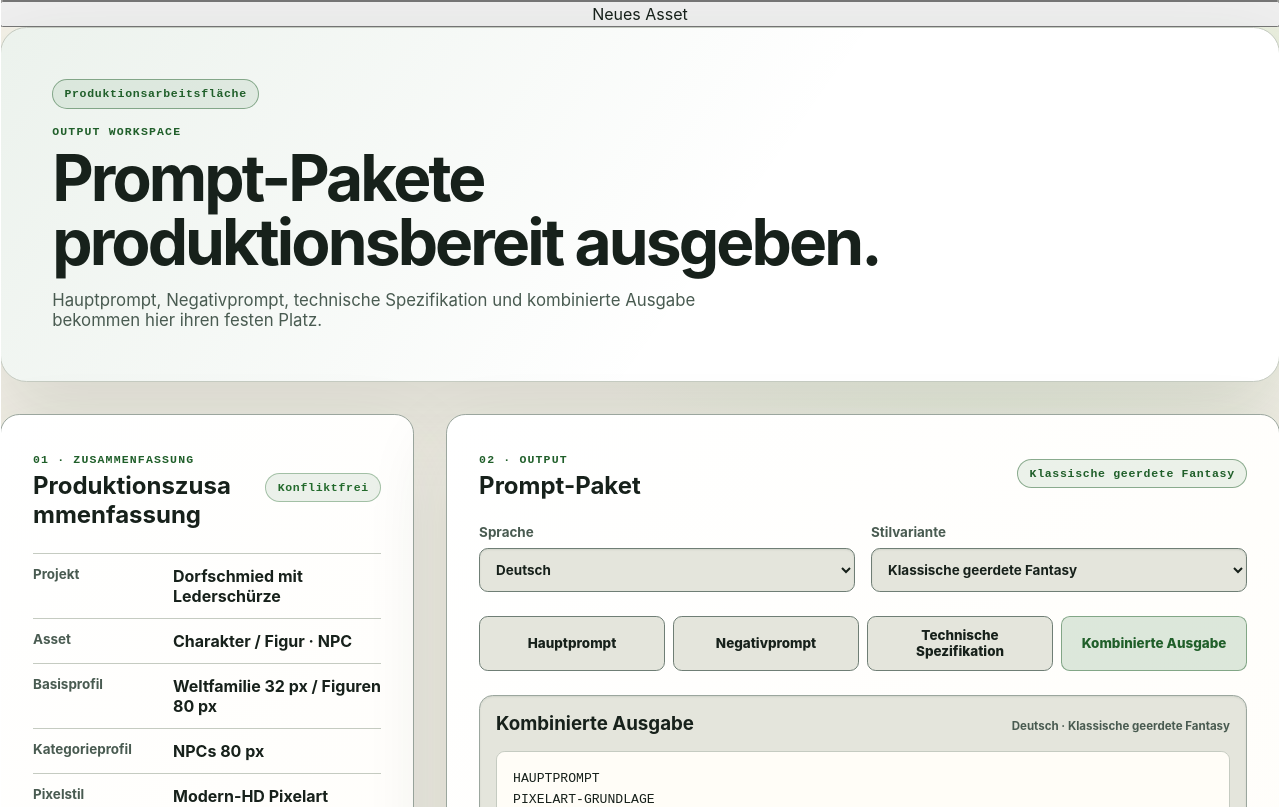
Test: ReviewOutputWorkspace › restores the persisted Draft and exposes all four prompt outputs and packages
The width and height of the screenshot is (1280, 807).
Expected: the heading "Prompt-Pakete produktionsbereit ausgeben." is shown, [52,146,958,274]
Expected: the heading "Produktionszusammenfassung" is shown, [33,471,250,529]
Click the tab "Hauptprompt" at (572, 643), box [479,616,665,671]
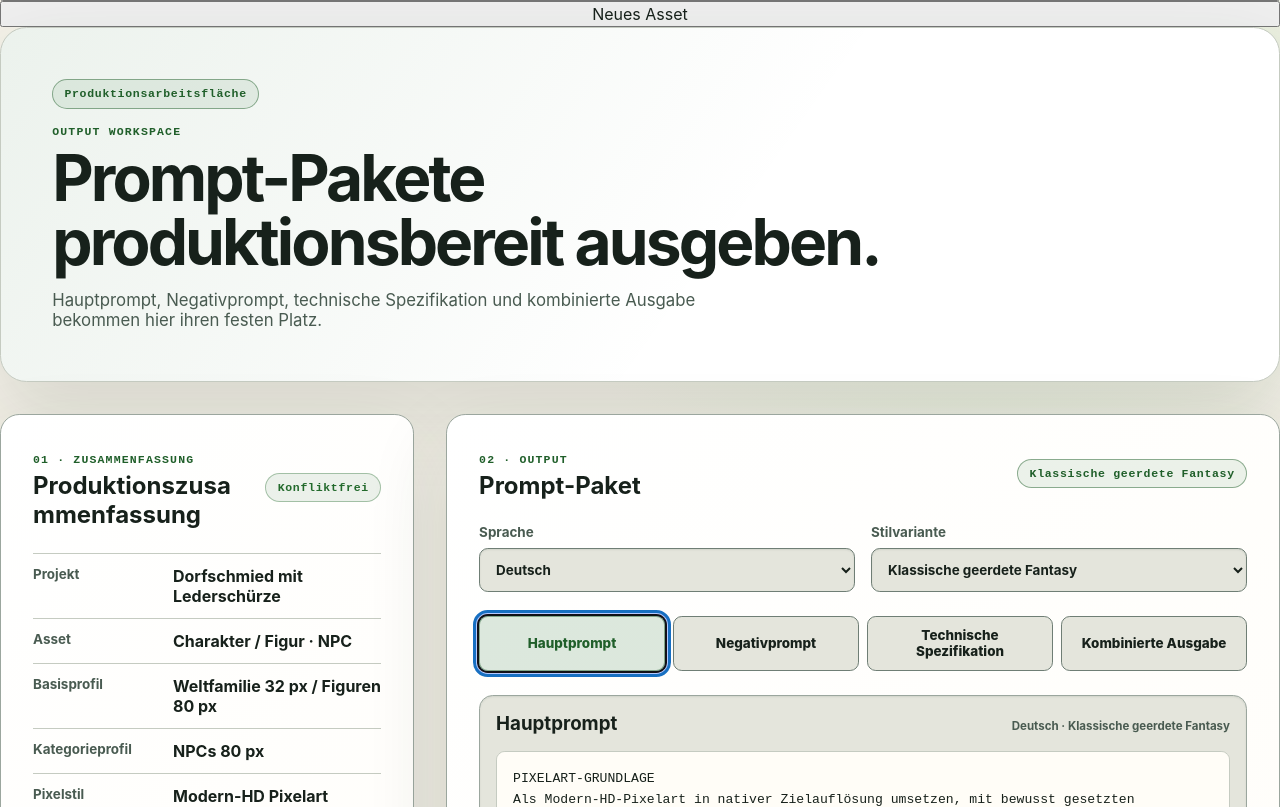
Click the tab "Negativprompt" at (766, 643), box [673,616,859,671]
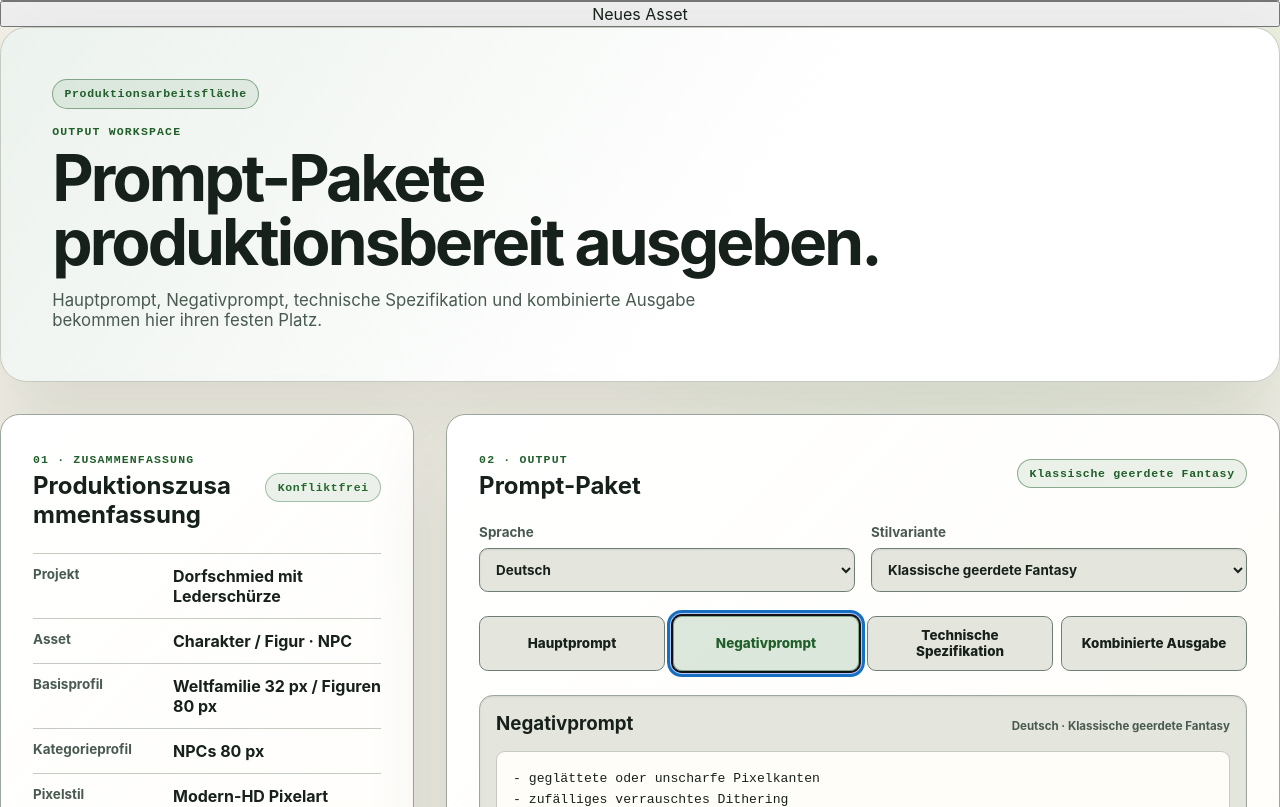
Click the tab "Technische Spezifikation" at (960, 643), box [867,616,1053,671]
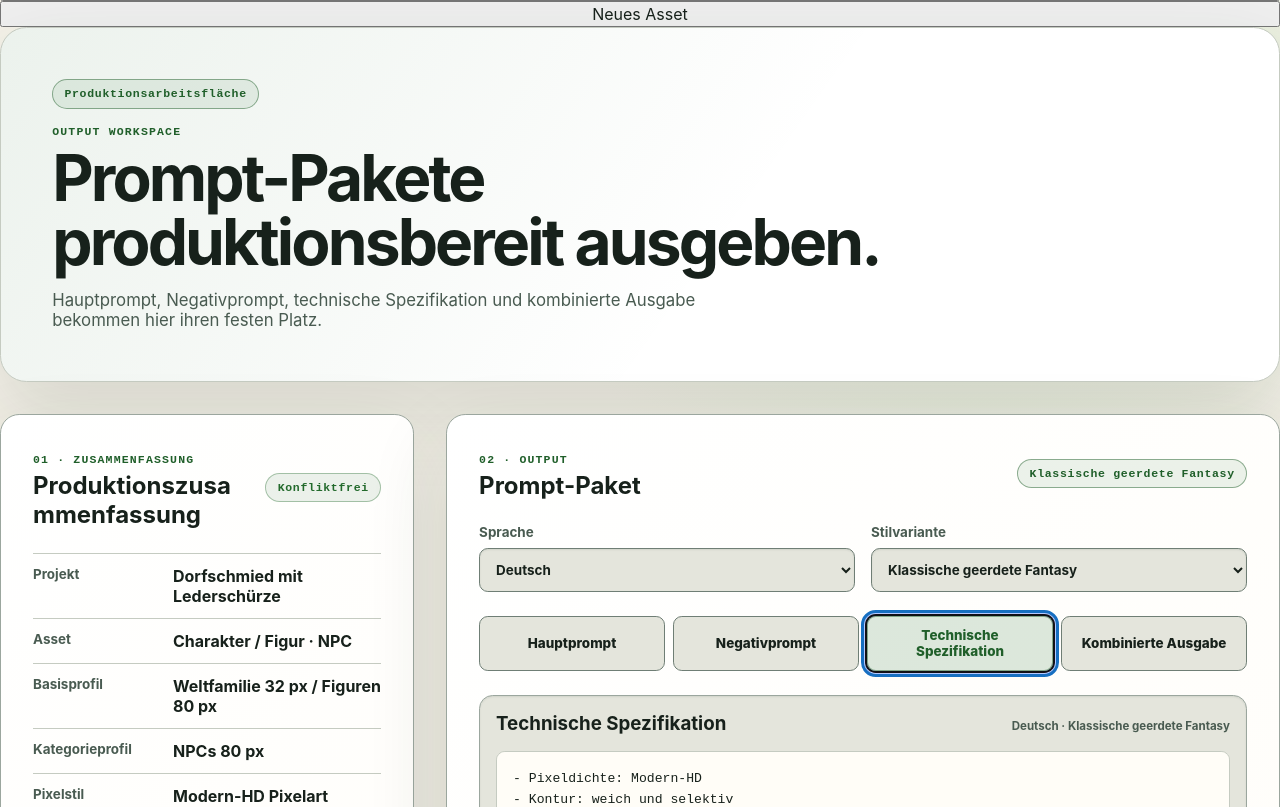
Click the tab "Kombinierte Ausgabe" at (1154, 643), box [1061,616,1247,671]
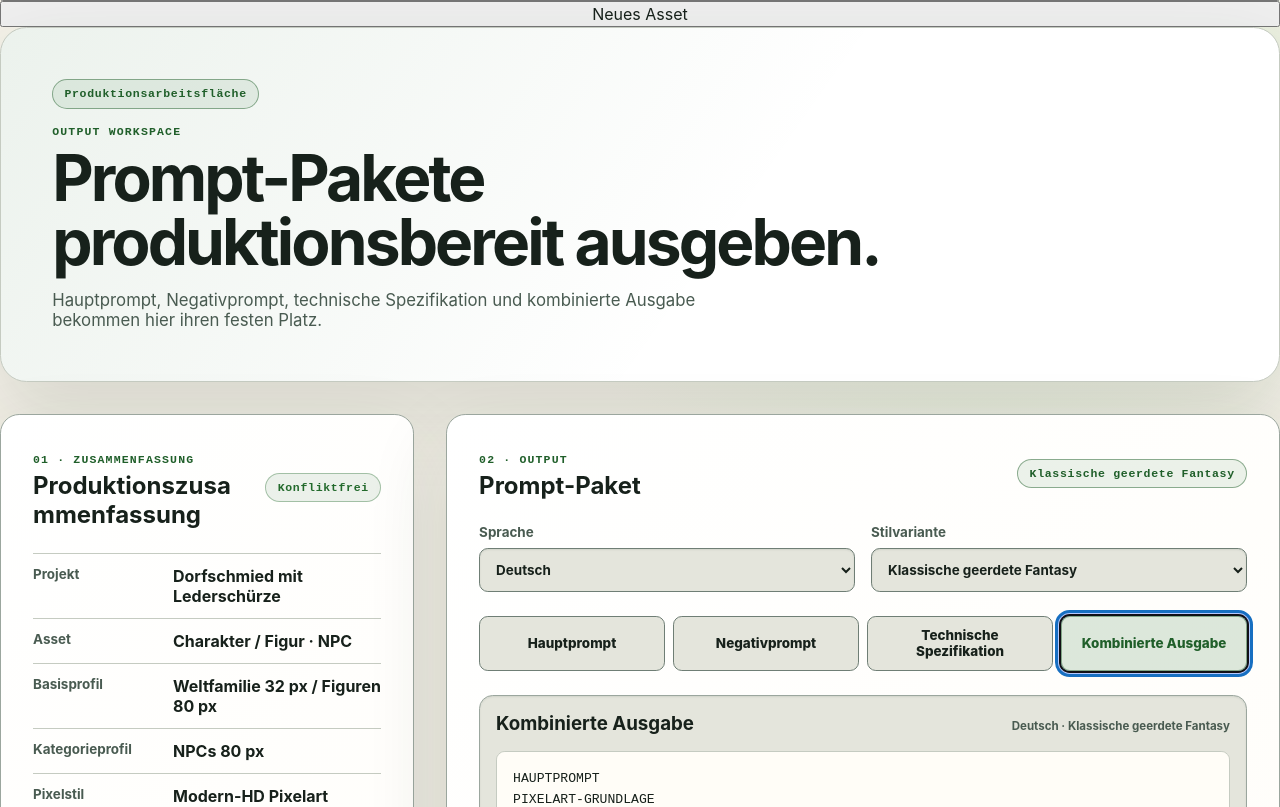
Select "English" in the dropdown labelled "Sprache" at (667, 570), box [479,548,855,592]
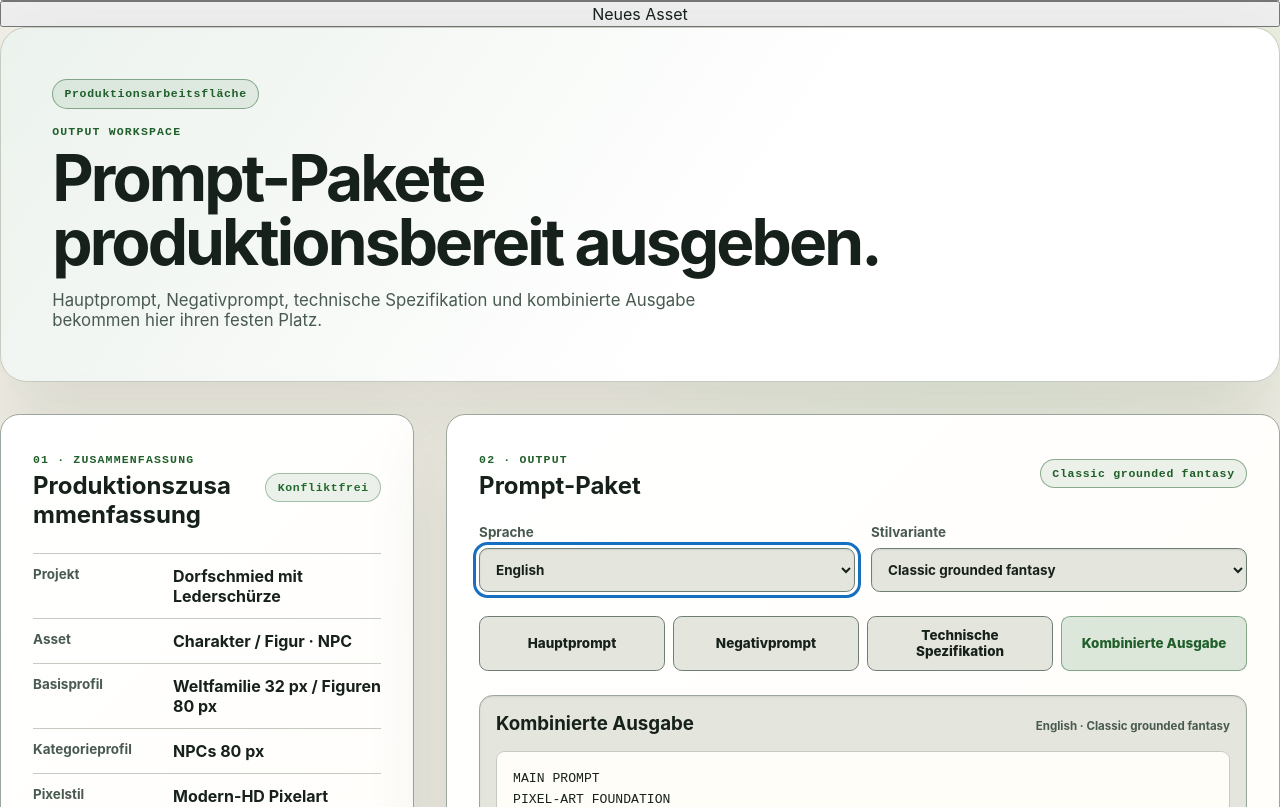
Select "Dark grounded fantasy" in the dropdown labelled "Stilvariante" at (1059, 570), box [871,548,1247,592]
(page scrolled)
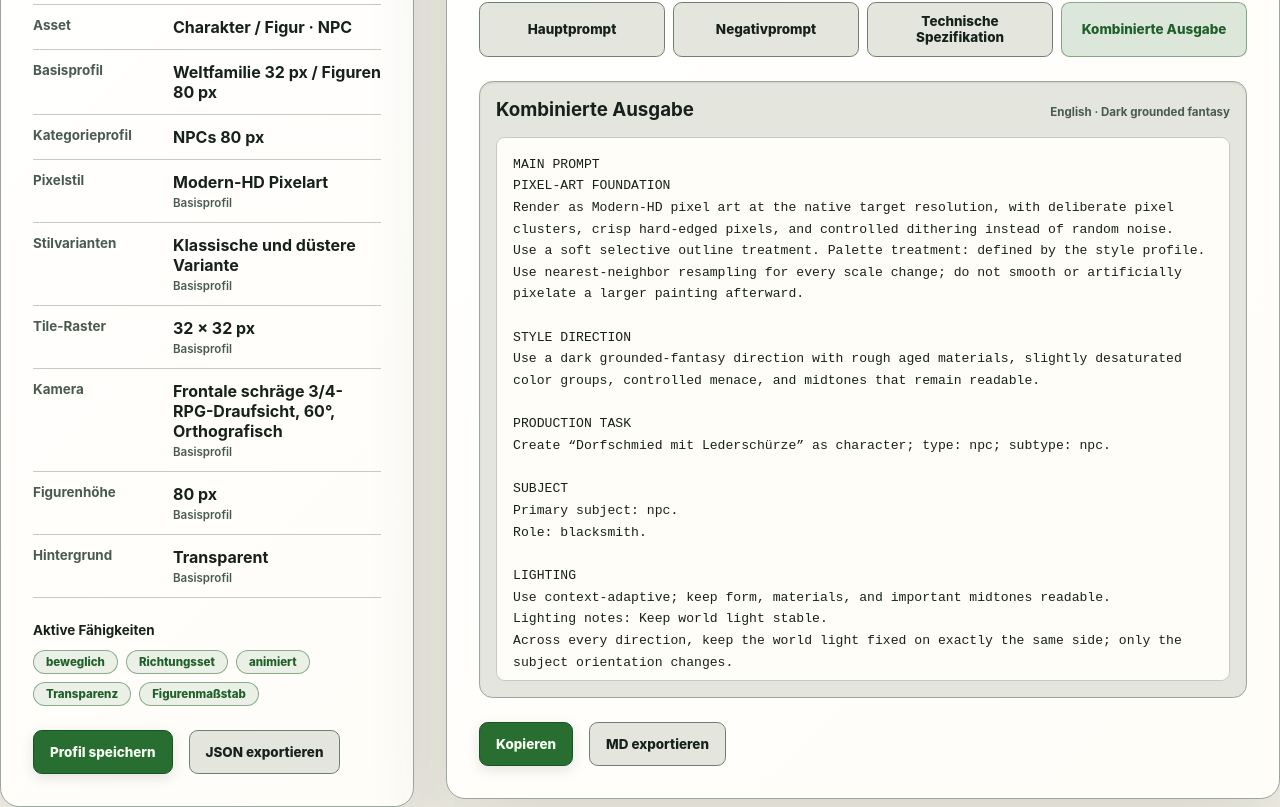
Now the panel shows "Dark grounded fantasy", box [1101,104,1230,118]
